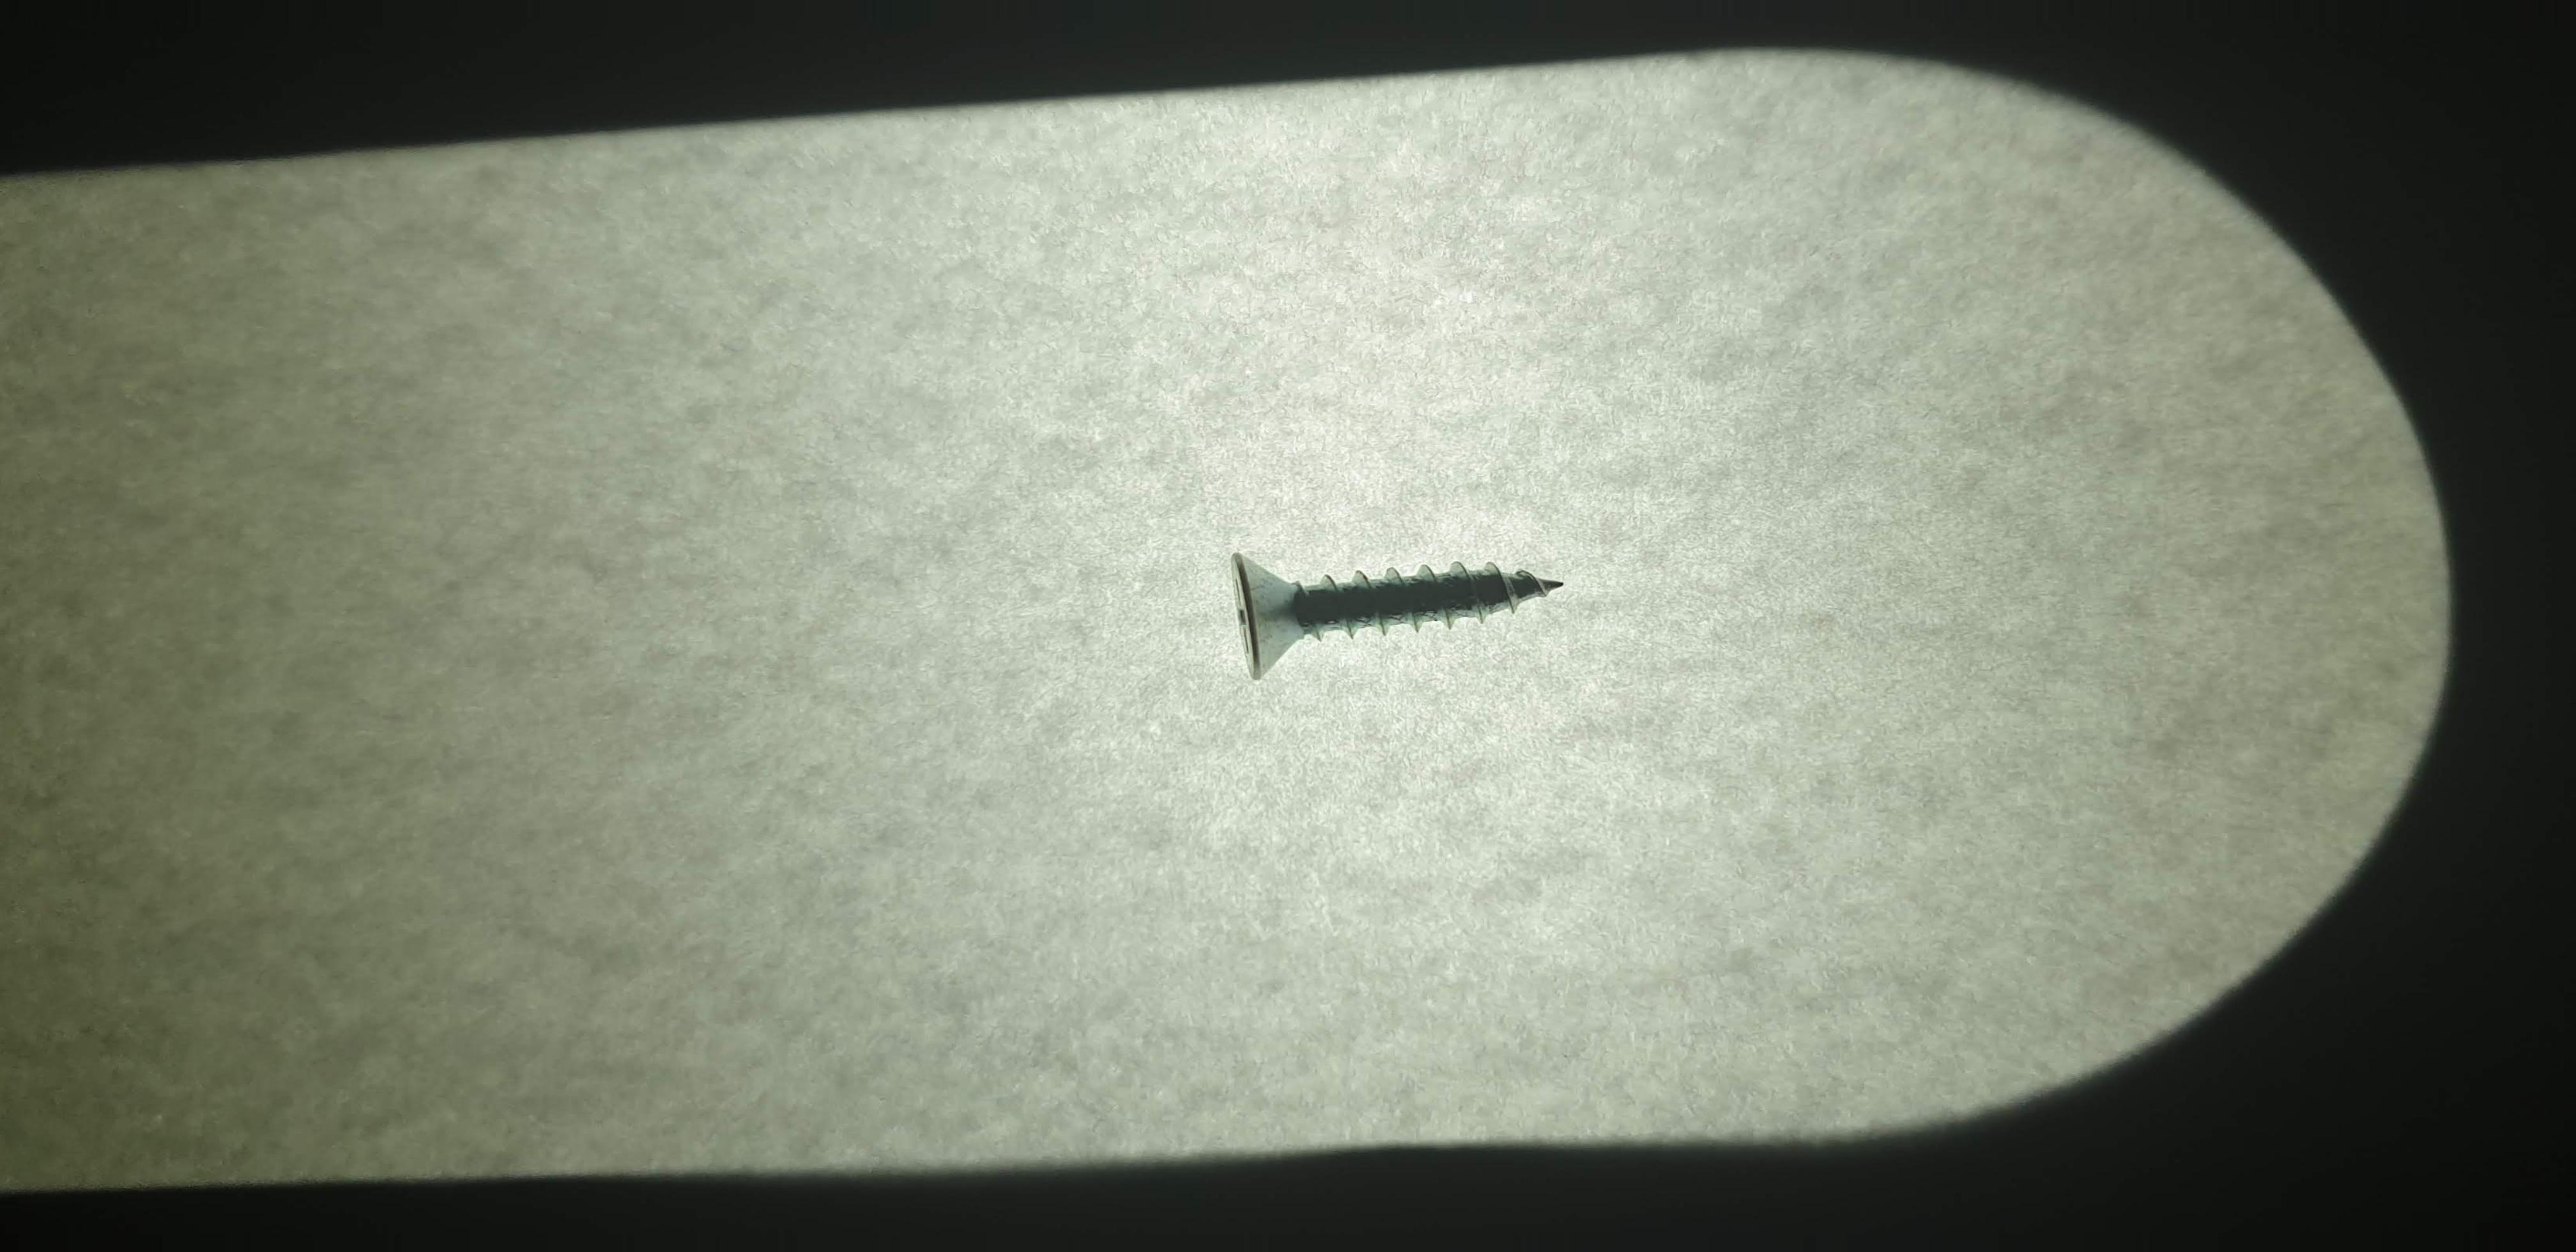S003: (1198, 516, 1636, 700)
